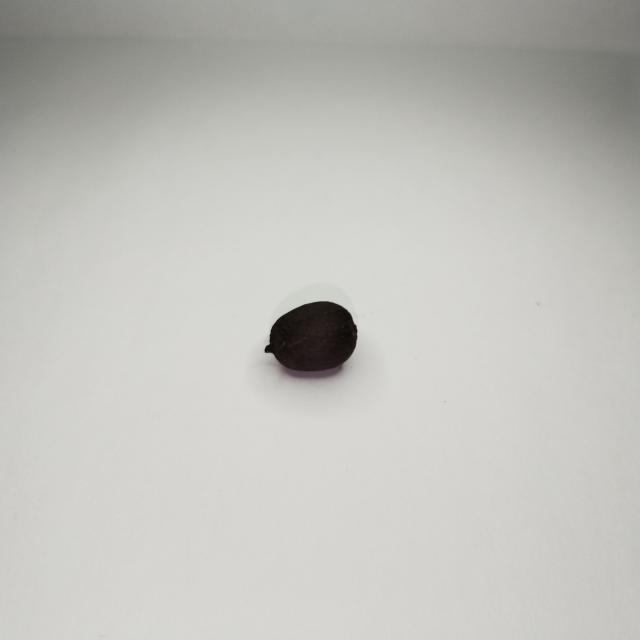Danado: (265, 299, 357, 376)
